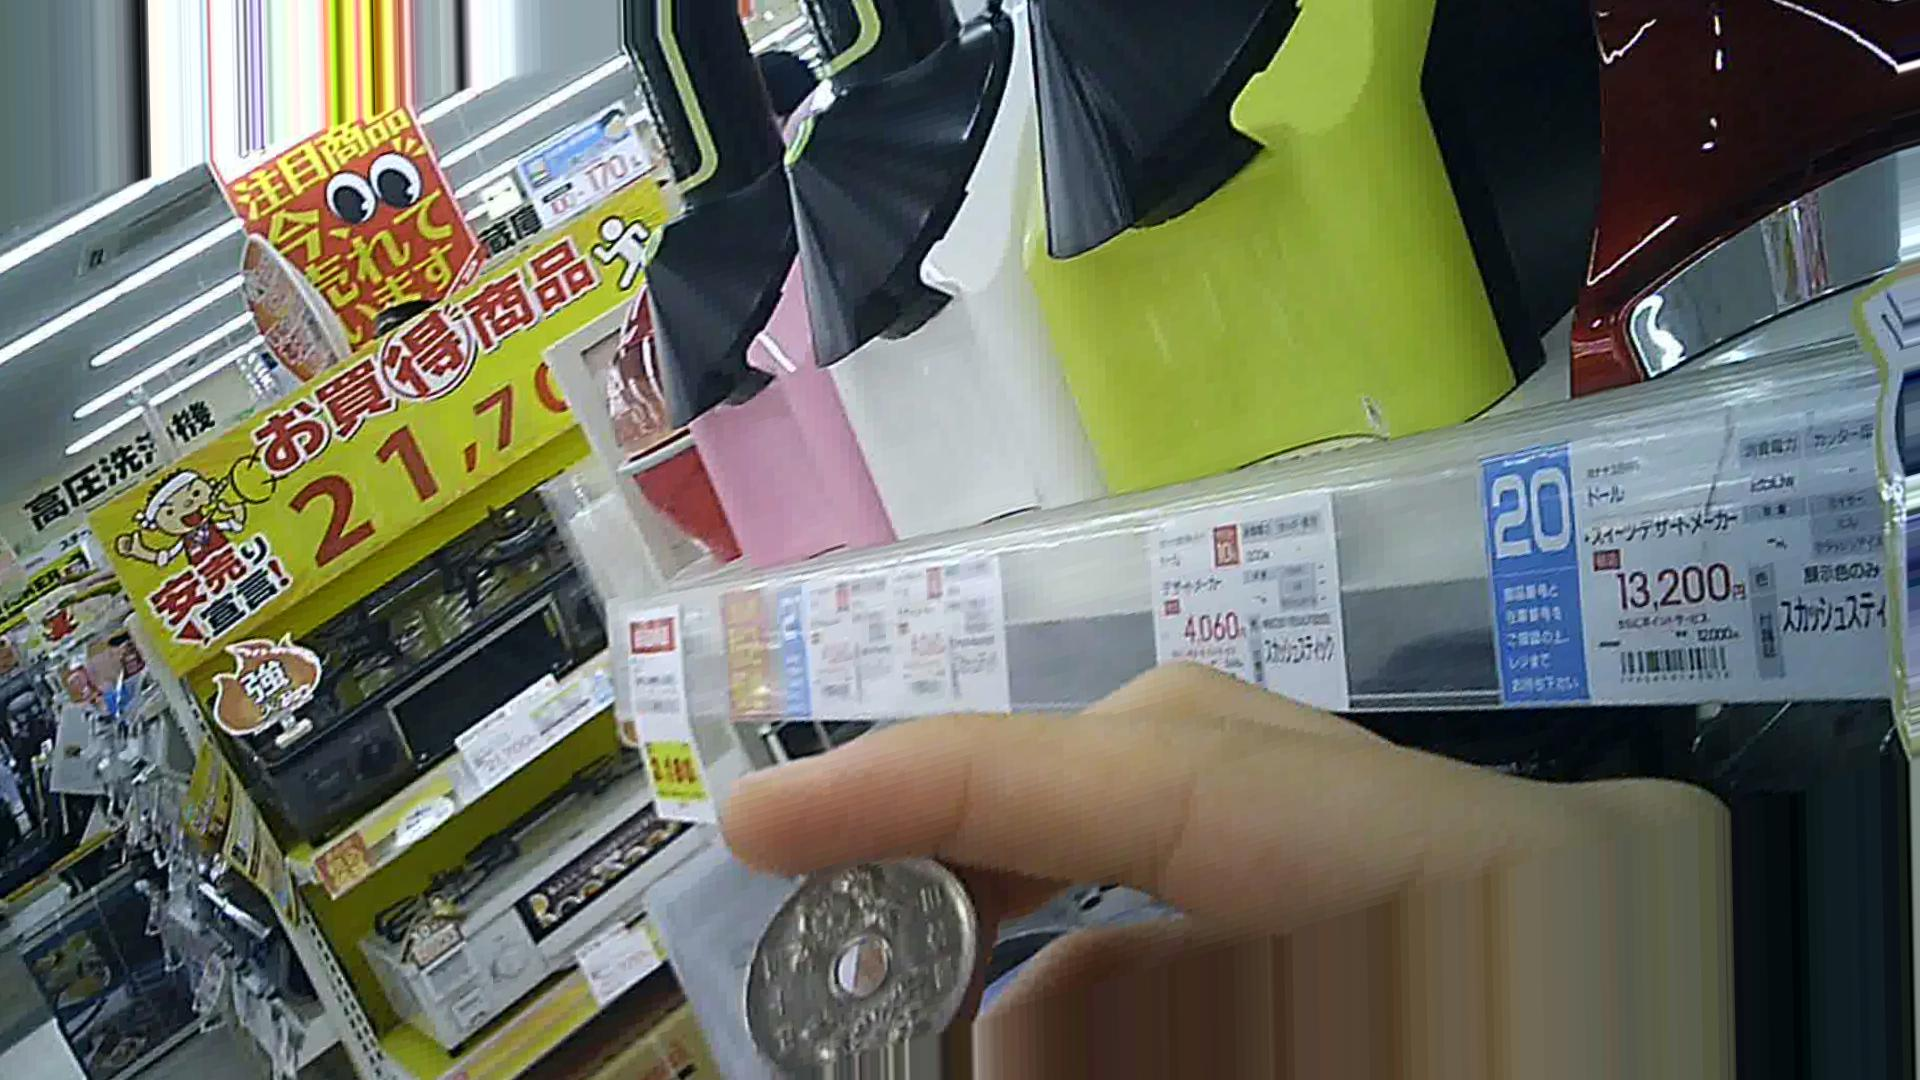50 Yen: (715, 829, 996, 1069)
